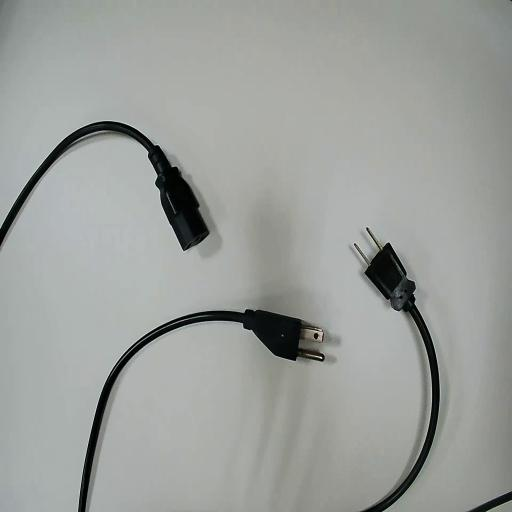wire: (79, 310, 322, 511), (0, 122, 208, 248), (364, 244, 438, 511)
